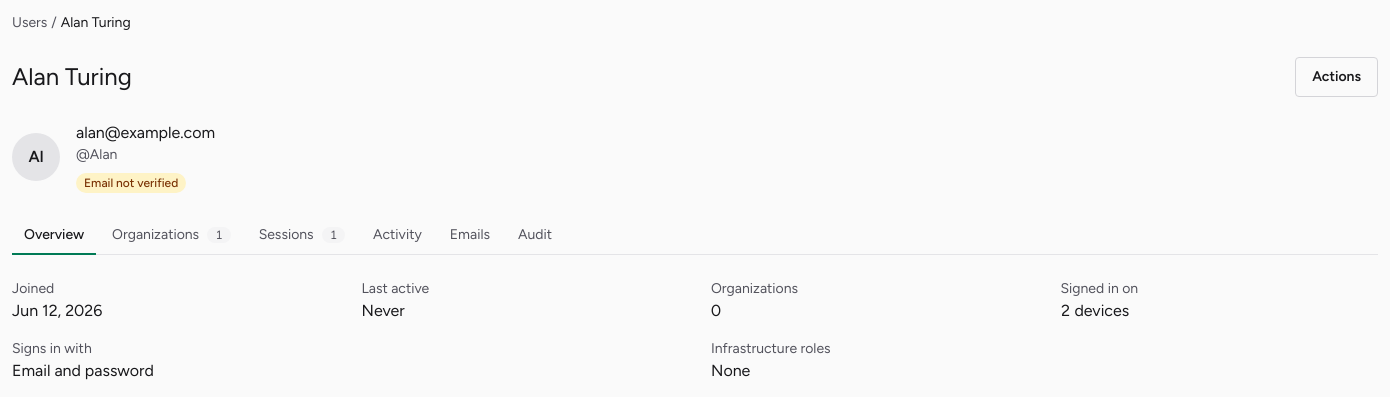
Test: InfraUserDetailPage › does not offer to suspend or delete yourself
Click the button "Actions" at {"x": 1337, "y": 77}, box [1295, 57, 1378, 97]
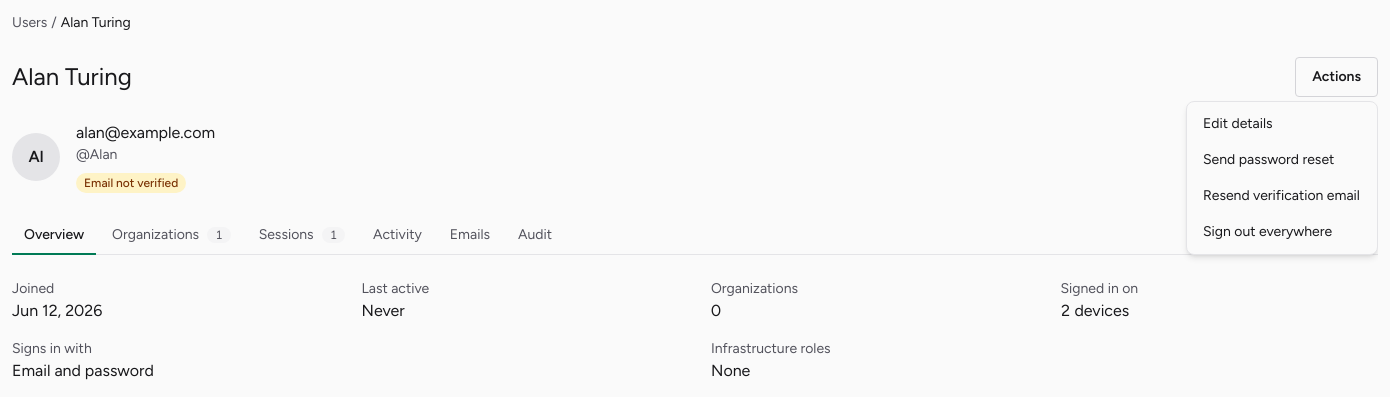
Now the menu item "Edit details" is shown, box [1203, 115, 1273, 132]
